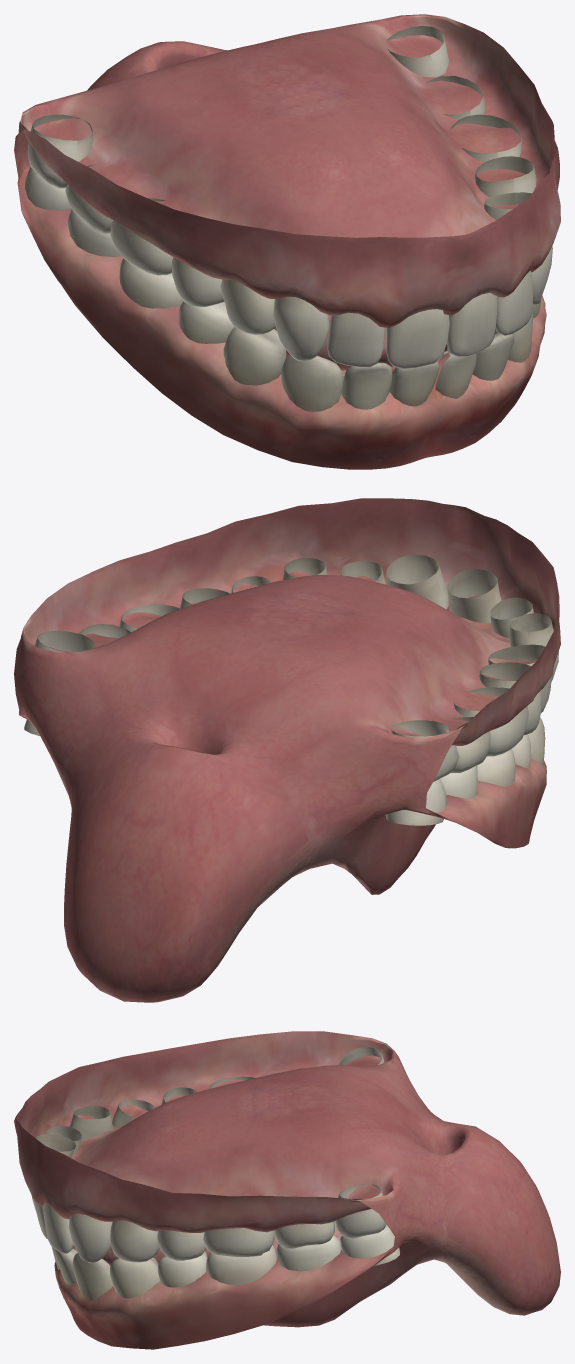
File: humanadult_teeth.glb
3 renders of one model, top to bottom at view 1: azimuth 30°, elevation 25°; view 2: azimuth 150°, elevation 25°; view 3: azimuth 270°, elevation 25°, orthographic. The views are drawn at different scales.
Parts seen in each view (by area): view 1: Gums_GumsMaterial_0, 21, 44, 43, 23, 22, 11, 24, 46, 42, 45, 26 (+16 smaller); view 2: Gums_GumsMaterial_0, 21, 11, 26, 25, 23, 48, 28, 46, 22, 18, 27 (+4 smaller); view 3: Gums_GumsMaterial_0, 36, 16, 14, 13, 34, 37, 38, 33, 18, 35, 17 (+8 smaller).
Boxes of the visible parts, x1,y1,x2,y2 form: Gums_GumsMaterial_0: [14, 14, 560, 469]; 21: [385, 309, 449, 369]; 44: [223, 327, 286, 385]; 43: [281, 354, 343, 411]; 23: [273, 296, 329, 361]; 22: [327, 312, 384, 367]; 11: [447, 293, 497, 357]; 24: [220, 279, 275, 334]; 46: [119, 258, 183, 308]; 42: [341, 362, 392, 409]; 45: [178, 301, 234, 343]; 26: [110, 198, 173, 275]; Gums_GumsMaterial_0: [14, 498, 560, 1002]; 21: [447, 569, 501, 623]; 11: [386, 554, 448, 609]; 26: [453, 687, 528, 756]; 25: [479, 662, 541, 735]; 23: [509, 613, 558, 681]; 48: [385, 779, 446, 825]; 28: [391, 720, 459, 781]; 46: [477, 749, 515, 786]; 22: [490, 597, 533, 638]; 18: [35, 630, 95, 652]; 27: [450, 717, 490, 772]; Gums_GumsMaterial_0: [14, 1031, 560, 1349]; 36: [206, 1244, 276, 1285]; 16: [203, 1228, 274, 1256]; 14: [110, 1220, 159, 1262]; 13: [68, 1213, 112, 1263]; 34: [110, 1257, 159, 1298]; 37: [277, 1235, 341, 1271]; 38: [340, 1224, 399, 1265]; 33: [72, 1252, 112, 1300]; 18: [335, 1184, 386, 1238]; 35: [158, 1251, 207, 1287]; 17: [274, 1221, 334, 1248].
Size of the model in its own units: 8.75 by 5.25 by 12.22.
2 materials, 2 textured.
